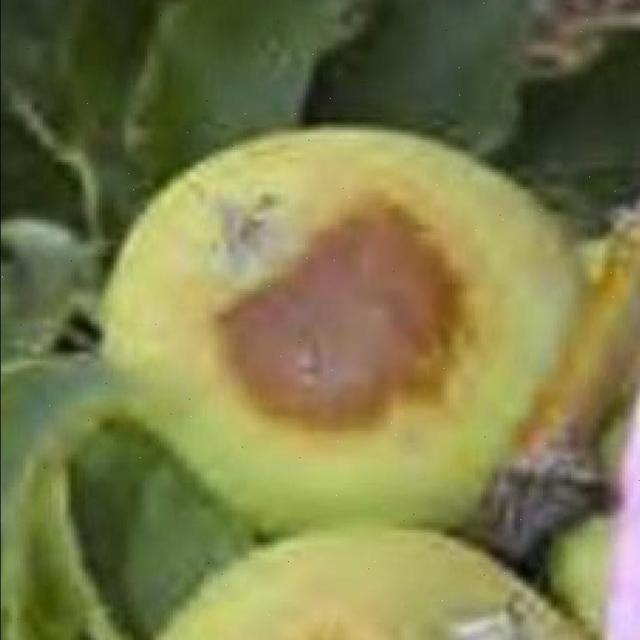Sunscald Fruit: (136, 119, 313, 298)
